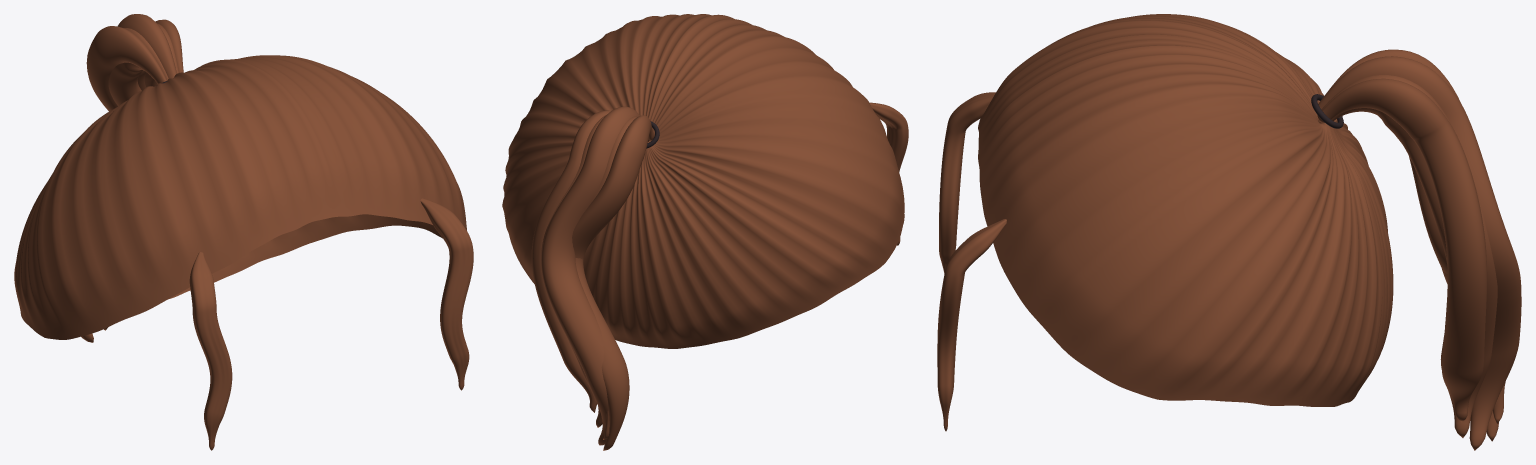
Rendered from Feminine-ponytail-hair.glb.
The picture shows the model from 3 angles, left to right: view 1: azimuth 30°, elevation 25°; view 2: azimuth 150°, elevation 25°; view 3: azimuth 270°, elevation 25°; orthographic projection. The views are drawn at different scales.
Visible parts, largest first — view 1: Hair / swept roots220, Hair / adjustable front216 1, Hair / adjustable front216 -1, Hair / rounded tail220 0, Hair / rounded tail220 2, Hair / rounded tail220 1, Hair / rounded tail220 4; view 2: Hair / swept roots220, Hair / rounded tail220 2, Hair / rounded tail220 0, Hair / rounded tail220 4, Hair / rounded tail220 1, Hair / adjustable front216 -1, Hair / rounded tail220 3; view 3: Hair / swept roots220, Hair / rounded tail220 4, Hair / rounded tail220 2, Hair / rounded tail220 3, Hair / adjustable front216 1, Hair / adjustable front216 -1, Hair / rounded tail220 1, Hair / rounded tail220 0.
Part boxes in pixels (<box>): Hair / swept roots220: <box>14,55,466,339</box>; Hair / adjustable front216 1: <box>420,198,473,390</box>; Hair / adjustable front216 -1: <box>189,252,232,450</box>; Hair / rounded tail220 0: <box>86,26,166,111</box>; Hair / rounded tail220 2: <box>81,14,176,342</box>; Hair / rounded tail220 1: <box>108,28,168,106</box>; Hair / rounded tail220 4: <box>155,19,183,72</box>; Hair / swept roots220: <box>502,14,904,348</box>; Hair / rounded tail220 2: <box>541,106,639,445</box>; Hair / rounded tail220 0: <box>572,115,654,439</box>; Hair / rounded tail220 4: <box>531,110,610,412</box>; Hair / rounded tail220 1: <box>575,116,649,450</box>; Hair / adjustable front216 -1: <box>869,102,908,245</box>; Hair / rounded tail220 3: <box>541,115,605,427</box>; Hair / swept roots220: <box>978,14,1393,406</box>; Hair / rounded tail220 4: <box>1317,78,1487,422</box>; Hair / rounded tail220 2: <box>1317,56,1521,450</box>; Hair / rounded tail220 3: <box>1321,75,1497,437</box>; Hair / adjustable front216 1: <box>937,219,1006,431</box>; Hair / adjustable front216 -1: <box>939,92,995,273</box>; Hair / rounded tail220 1: <box>1409,156,1505,441</box>; Hair / rounded tail220 0: <box>1318,49,1504,423</box>.
Size of the model in its own units: 0.9678 by 0.8326 by 1.04.
